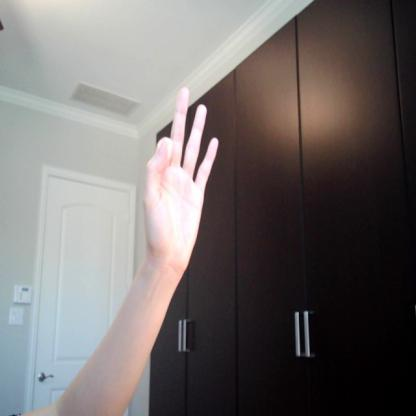nine: (138, 86, 222, 284)
